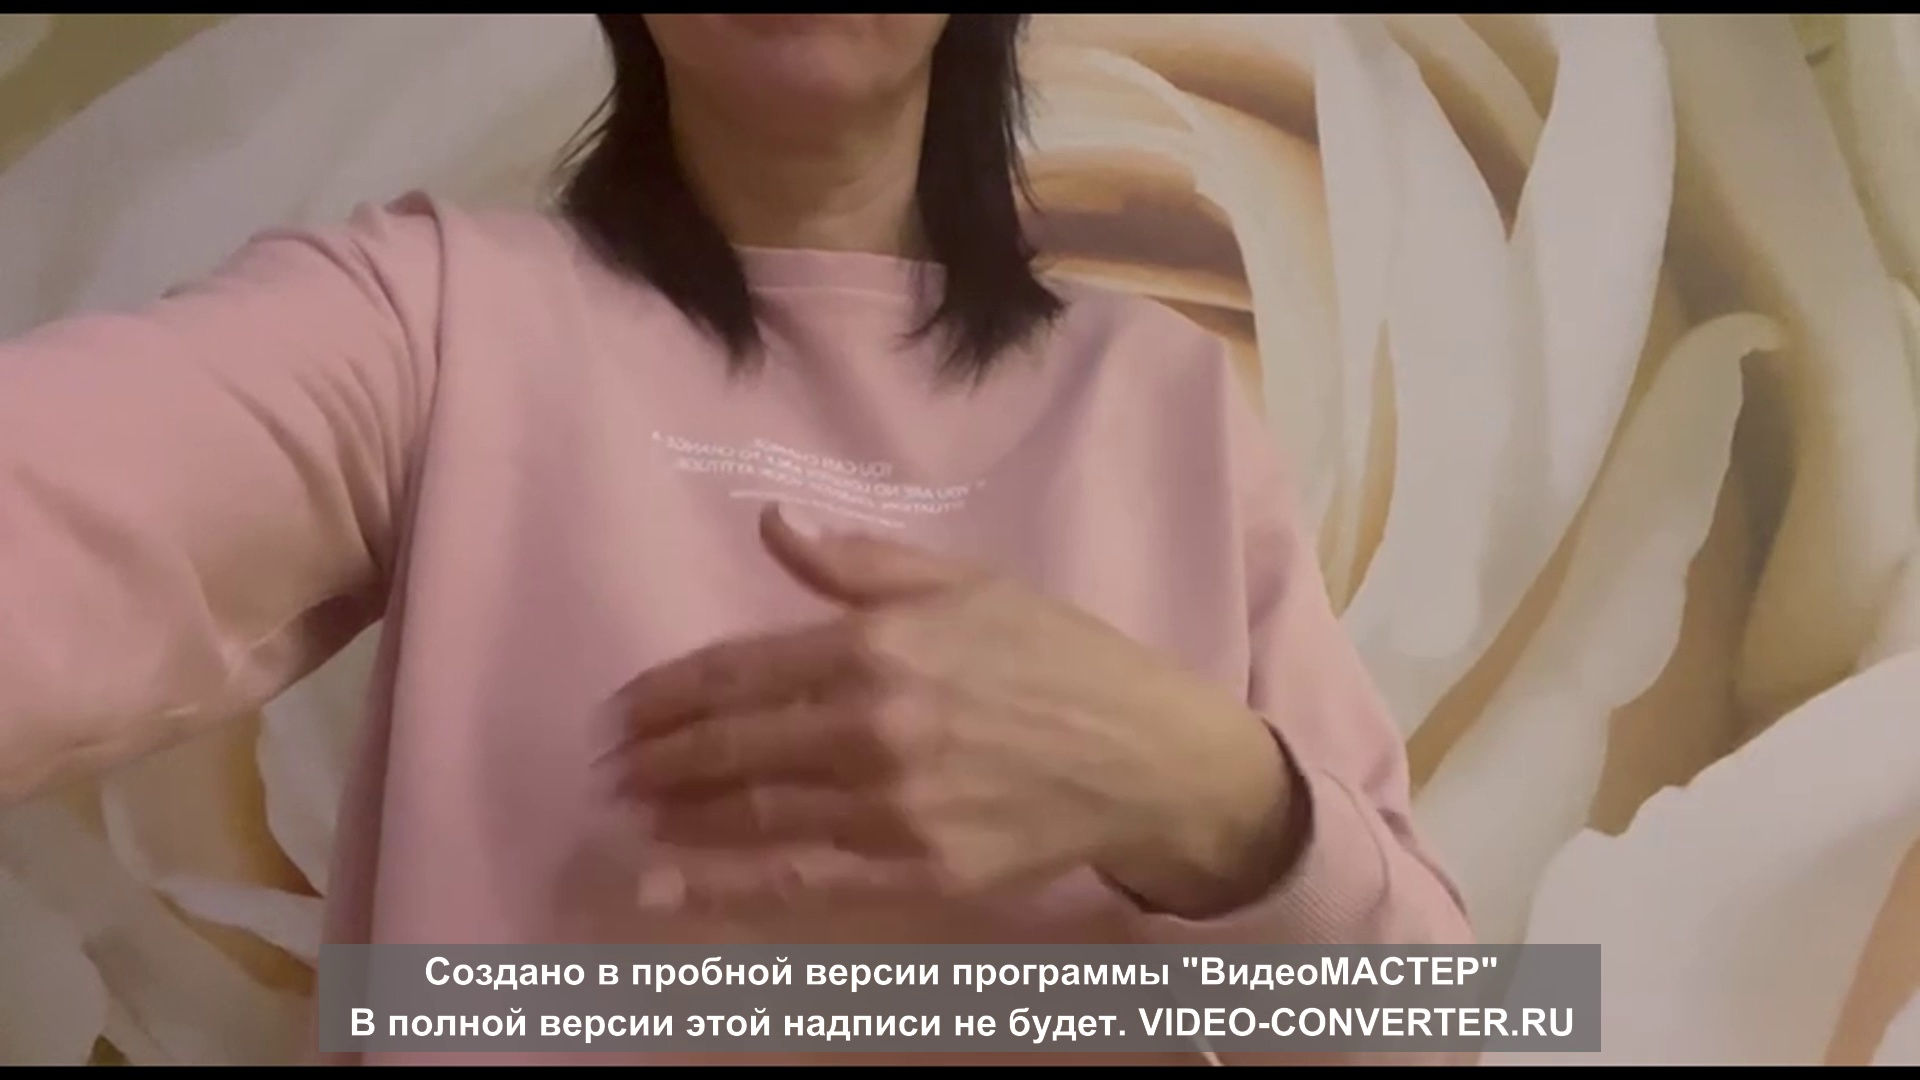Кисть: (576, 496, 1143, 919)
